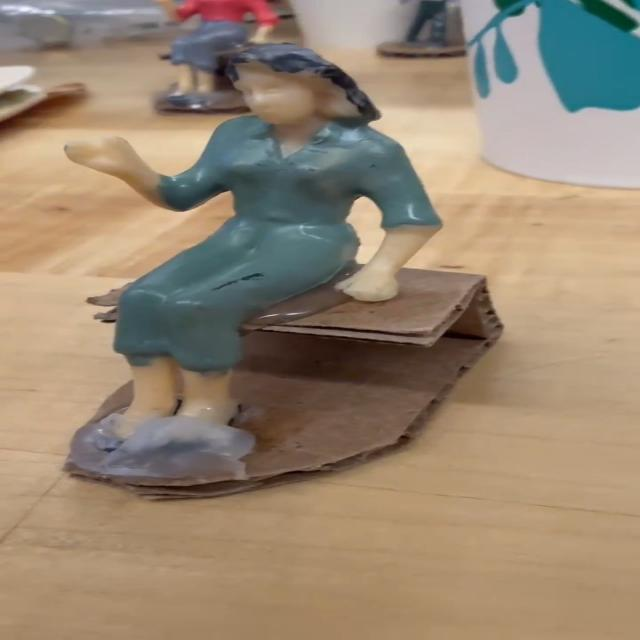Authorized: (50, 35, 453, 457)
